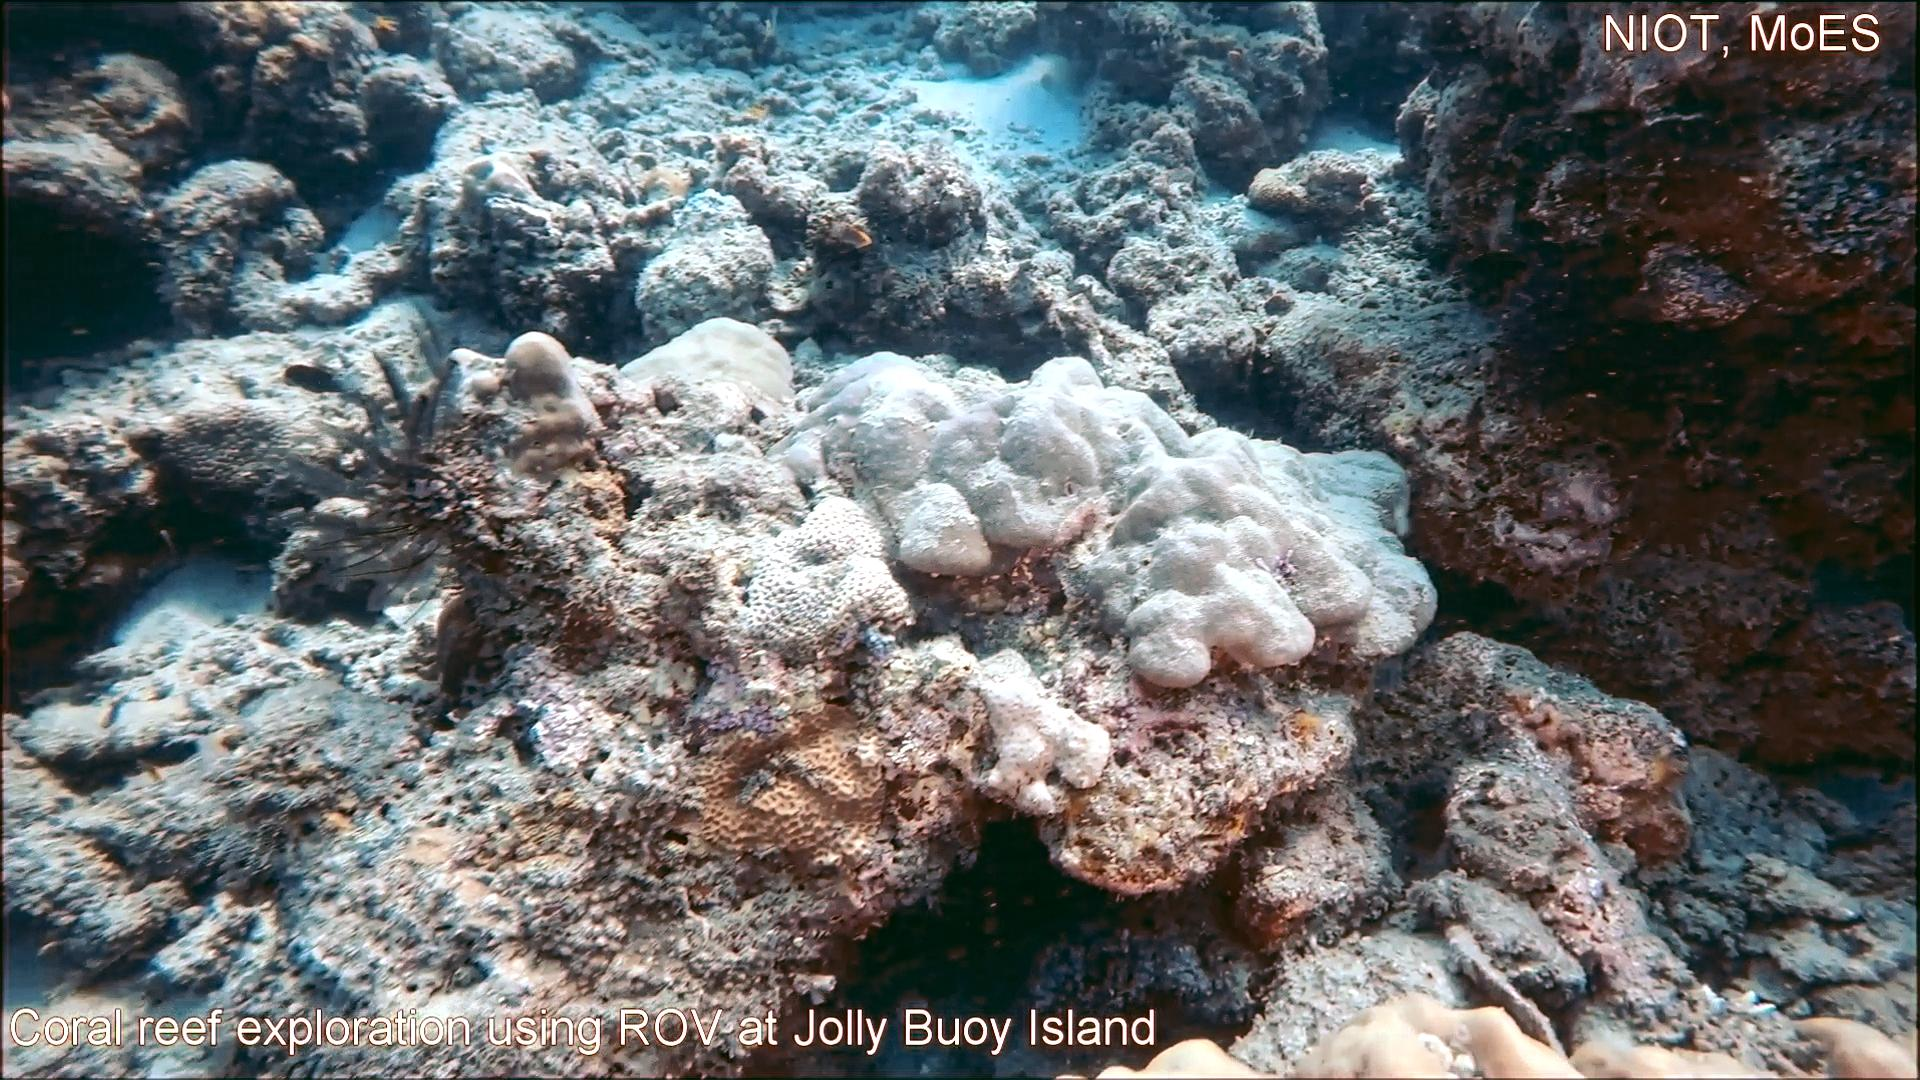Feather star-Crinoid star: (214, 277, 483, 629)
Goniastrea-Goniastrea pectinata: (742, 488, 923, 673)
Porites-Porites pukoensis: (992, 348, 1448, 695)
Turbinaria-Turbinaria stellulata: (152, 390, 316, 500)
